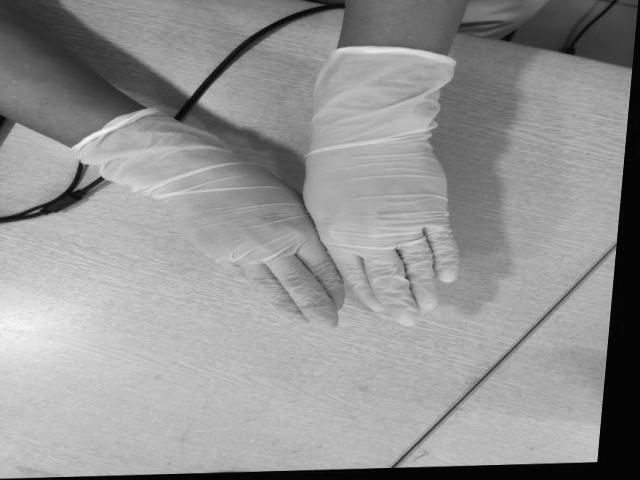gloved: (299, 148, 461, 321), (186, 156, 348, 326)
